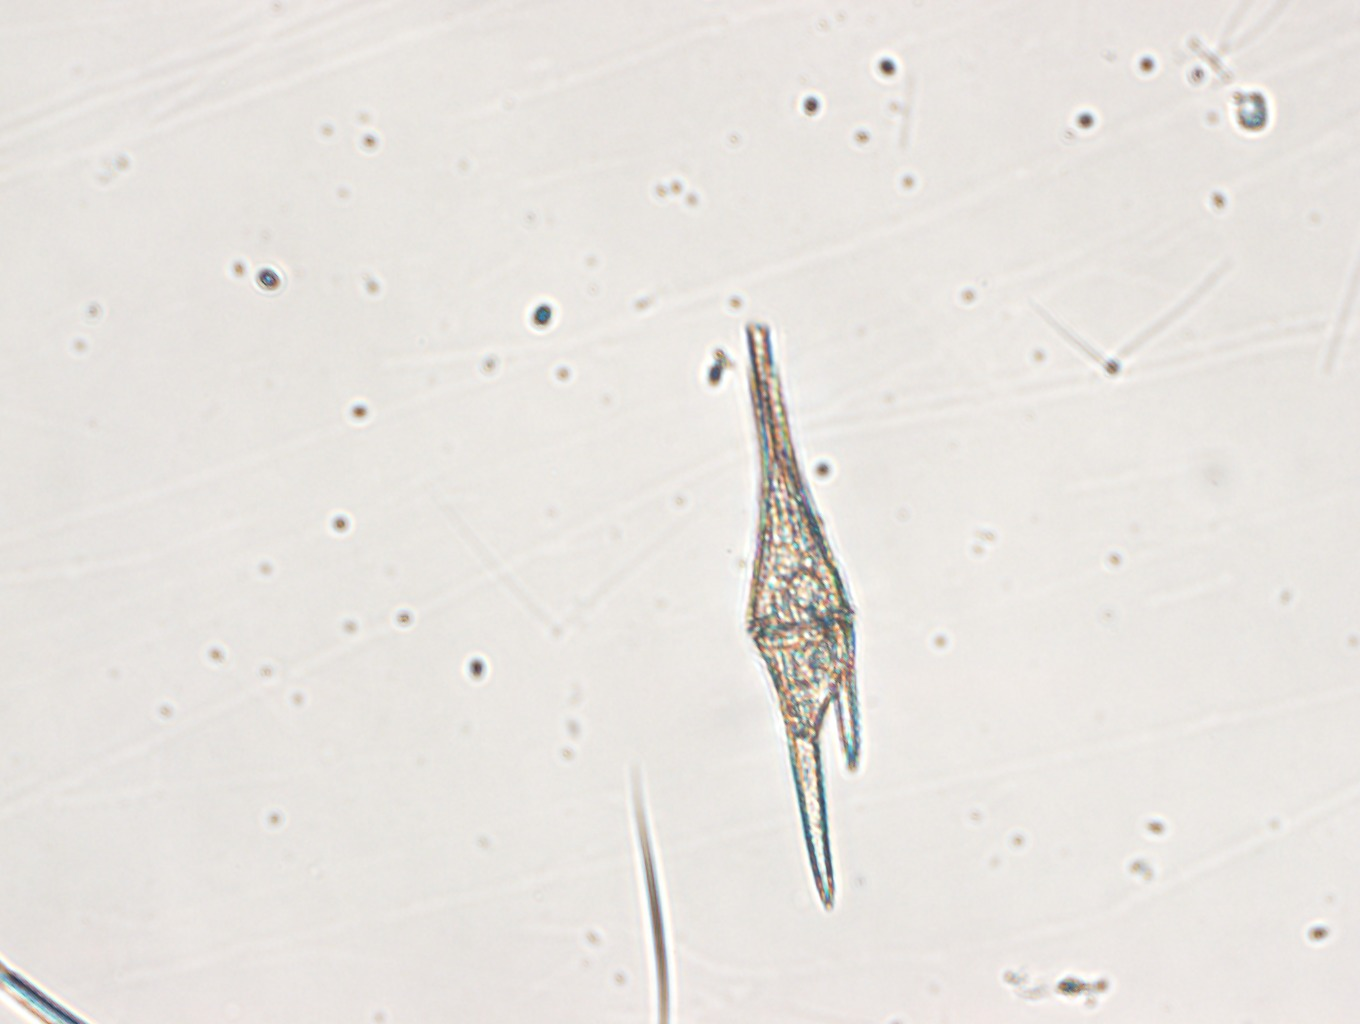ceratium furca: (745, 319, 861, 913)
